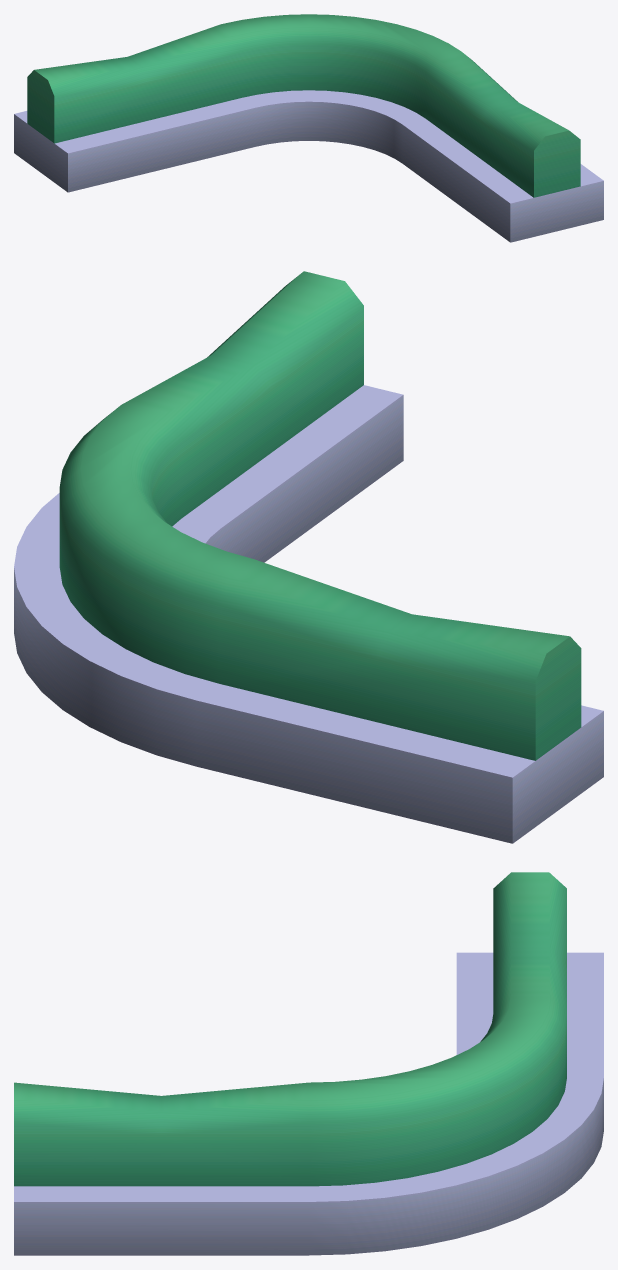
File: hedge-curved.glb
3 views of the same model, one above another, from view 1: azimuth 30°, elevation 25°; view 2: azimuth 150°, elevation 25°; view 3: azimuth 270°, elevation 25° (orthographic). The views are drawn at different scales.
Visible parts, largest first — view 1: hedge-curved; view 2: hedge-curved; view 3: hedge-curved.
Boxes of the visible parts, x1,y1,x2,y2 form: hedge-curved: [14, 14, 603, 242]; hedge-curved: [14, 271, 603, 843]; hedge-curved: [14, 872, 603, 1255].
Bounding box in the file's own units: 1 × 0.25 × 1.
1 material, 1 textured.
